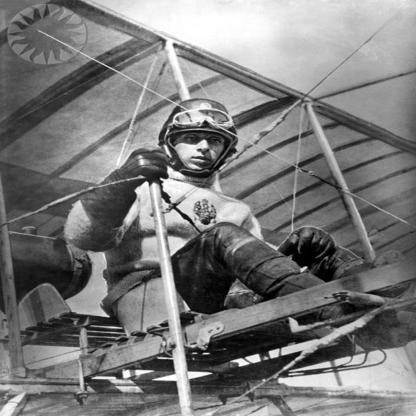Helmet: (158, 101, 237, 180)
